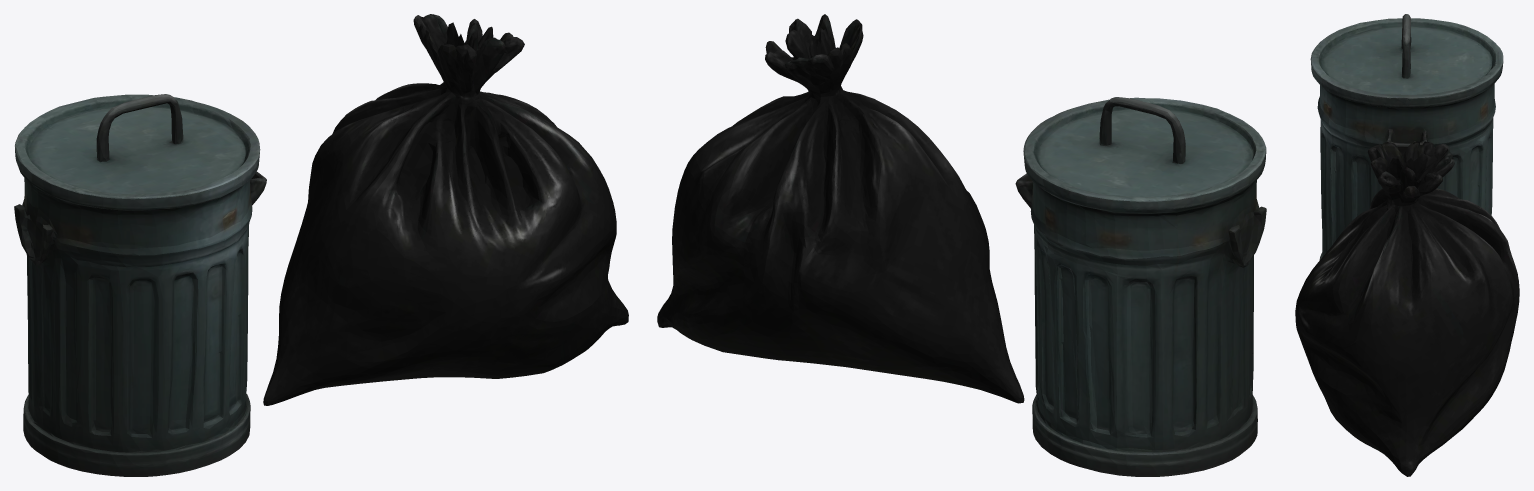
File: trash_can_trash_bag.glb
3 views of the same model, side by side, from view 1: azimuth 30°, elevation 25°; view 2: azimuth 150°, elevation 25°; view 3: azimuth 270°, elevation 25° (orthographic). The views are drawn at different scales.
Visible parts, largest first — view 1: geometry_0; view 2: geometry_0; view 3: geometry_0.
Boxes of the visible parts, <box> form: geometry_0: <box>14,14,628,476</box>; geometry_0: <box>657,14,1266,476</box>; geometry_0: <box>1295,14,1519,476</box>.
Bounding box in the file's own units: 0.9993 × 0.5508 × 0.4158.
Materials: 1 (1 with a texture image).
